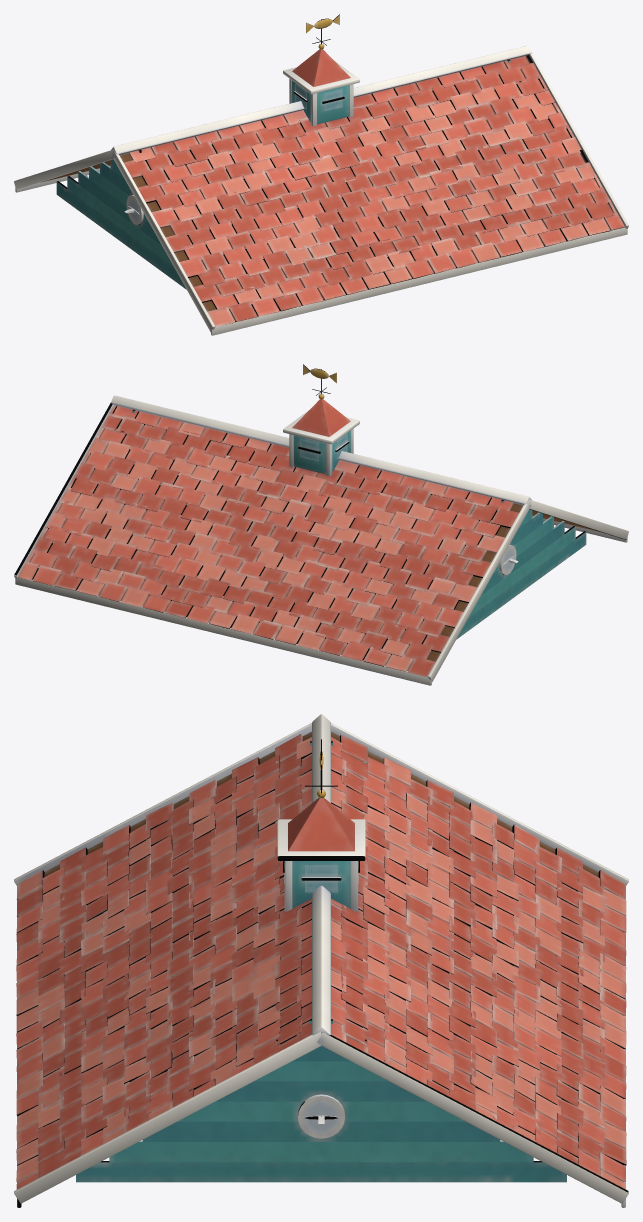
File: museum_roof_0.glb
3 renders of one model, top to bottom at view 1: azimuth 30°, elevation 25°; view 2: azimuth 150°, elevation 25°; view 3: azimuth 270°, elevation 25°, orthographic. The views are drawn at different scales.
Visible parts, largest first — view 1: SM_Roof_Shingles, SM_Roof_Fascia, SM_Roof_Gables, SM_Roof_Cupola, SM_Roof_Deck; view 2: SM_Roof_Shingles, SM_Roof_Fascia, SM_Roof_Gables, SM_Roof_Cupola, SM_Roof_Deck; view 3: SM_Roof_Shingles, SM_Roof_Gables, SM_Roof_Fascia, SM_Roof_Cupola, SM_Roof_Deck.
Boxes of the visible parts, left/top/right/bottom form: SM_Roof_Shingles: left=124, top=55, right=624, bottom=326; SM_Roof_Fascia: left=14, top=45, right=628, bottom=335; SM_Roof_Gables: left=56, top=59, right=521, bottom=289; SM_Roof_Cupola: left=283, top=14, right=359, bottom=126; SM_Roof_Deck: left=42, top=57, right=613, bottom=320; SM_Roof_Shingles: left=18, top=405, right=518, bottom=677; SM_Roof_Fascia: left=14, top=395, right=628, bottom=685; SM_Roof_Gables: left=121, top=409, right=586, bottom=639; SM_Roof_Cupola: left=283, top=364, right=359, bottom=476; SM_Roof_Deck: left=30, top=407, right=600, bottom=670; SM_Roof_Shingles: left=16, top=734, right=626, bottom=1189; SM_Roof_Gables: left=76, top=741, right=566, bottom=1182; SM_Roof_Fascia: left=14, top=714, right=628, bottom=1207; SM_Roof_Cupola: left=277, top=739, right=365, bottom=911; SM_Roof_Deck: left=44, top=731, right=598, bottom=877.
Size of the model in its own units: 11.34 by 5.06 by 9.38.
2 materials, 1 textured.
